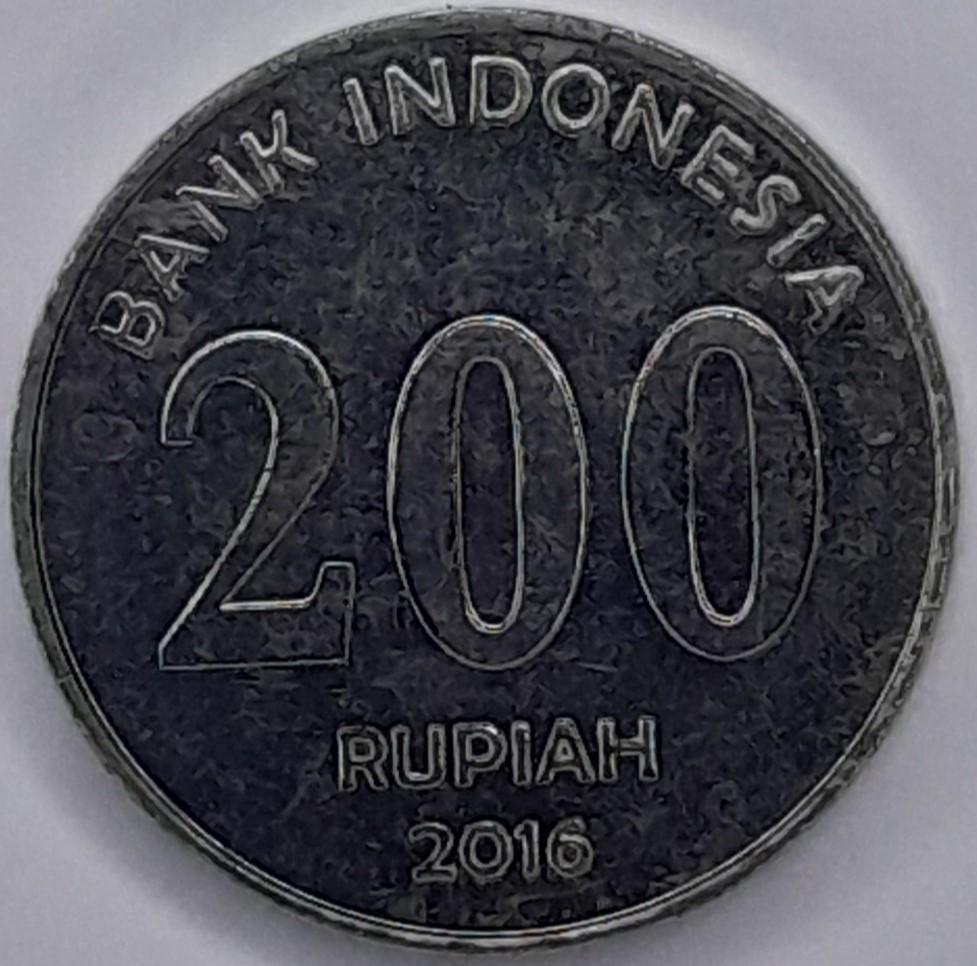coin_200_e2016: (0, 17, 977, 966)
